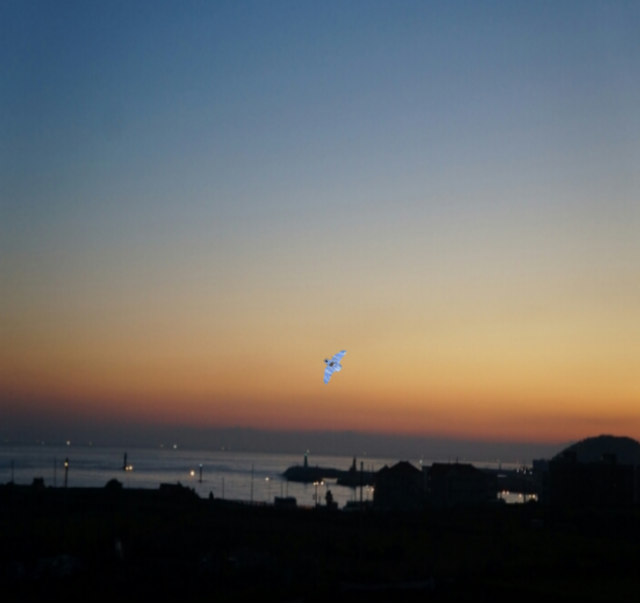military drone: (322, 350, 346, 384)
